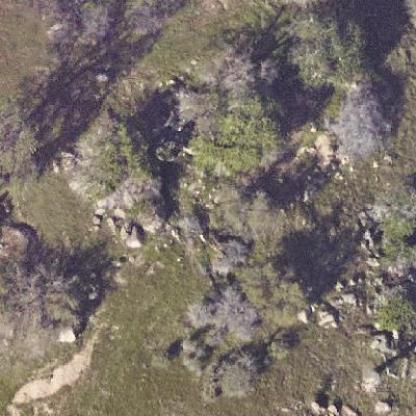tree-top: (0, 250, 88, 353), (68, 124, 161, 208), (194, 100, 281, 181), (286, 10, 373, 90), (240, 257, 315, 326), (212, 355, 259, 397), (369, 291, 415, 331)
